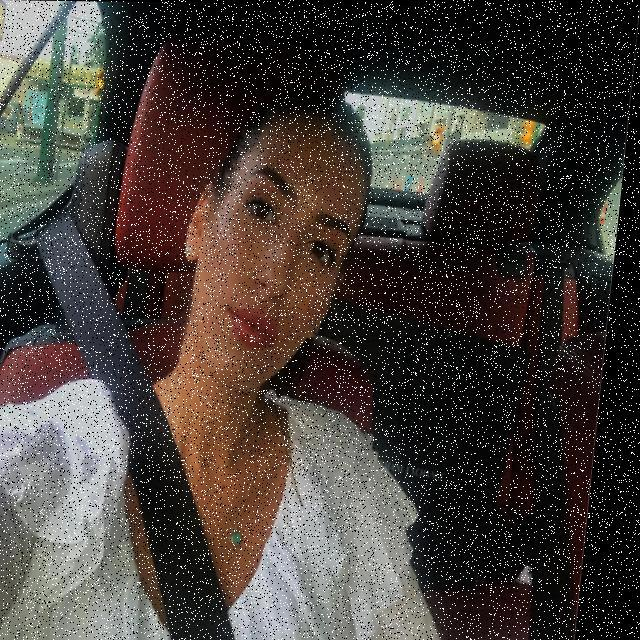seatbelt: (0, 340, 377, 640)
